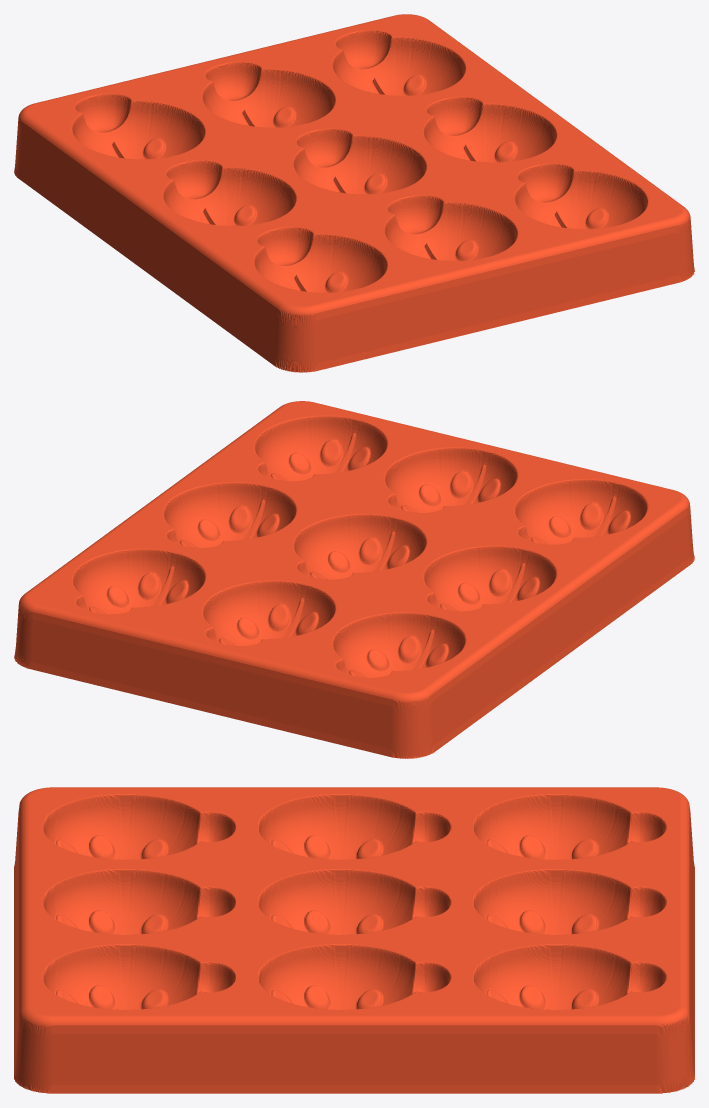
The model's file is mold.glb.
The picture shows the model from 3 angles, top to bottom: view 1: azimuth 30°, elevation 25°; view 2: azimuth 150°, elevation 25°; view 3: azimuth 270°, elevation 25°; orthographic projection. The views are drawn at different scales.
Visible parts, largest first — view 1: geometry_0; view 2: geometry_0; view 3: geometry_0.
Part boxes in pixels (x1=…): geometry_0: x1=14, y1=14, x2=694, y2=372; geometry_0: x1=14, y1=401, x2=694, y2=758; geometry_0: x1=14, y1=787, x2=694, y2=1093.
Size of the model in its own units: 0.1331 by 0.0185 by 0.1595.
